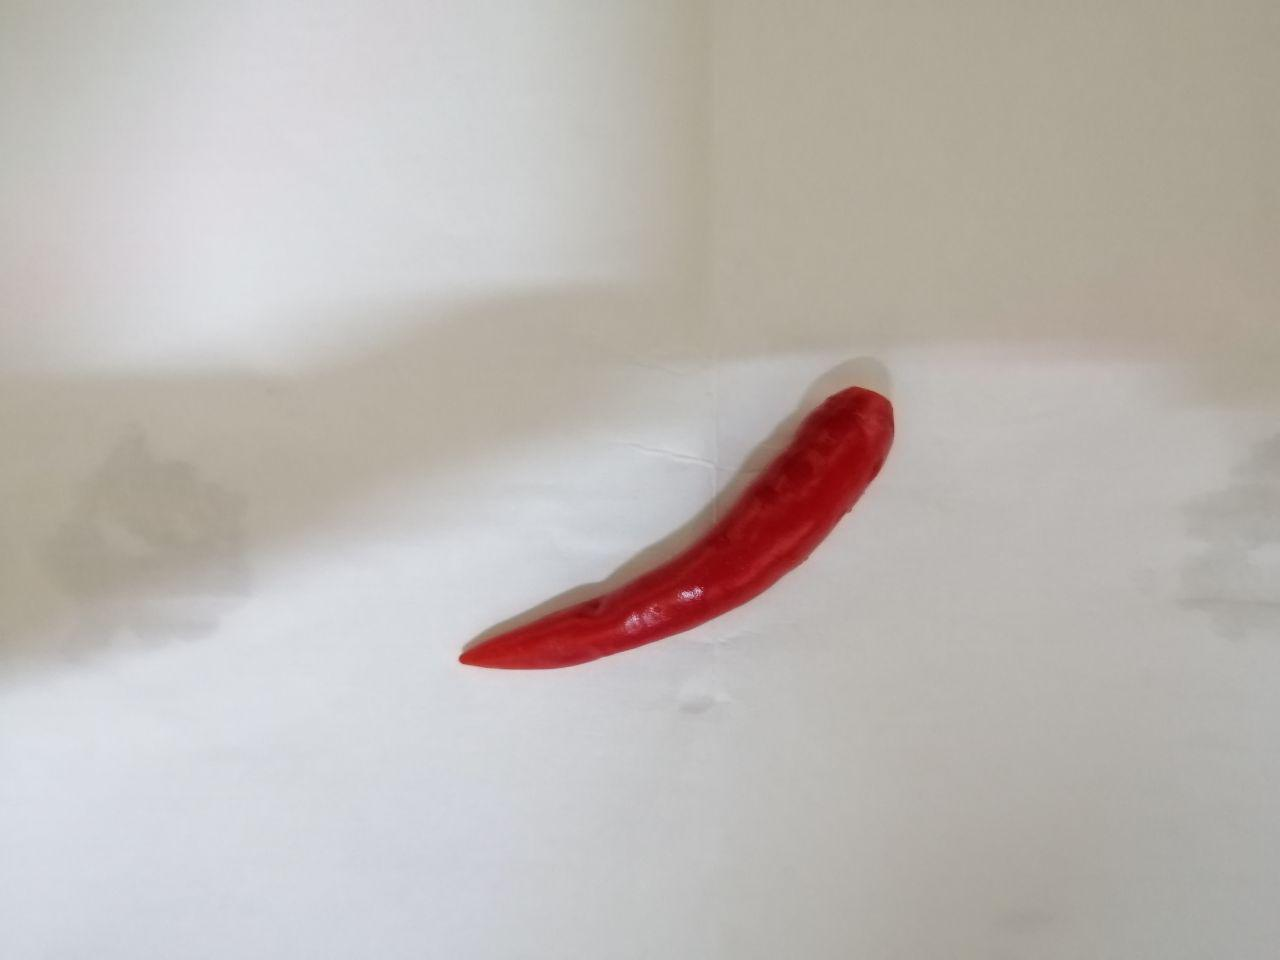lada merah: (388, 368, 940, 718)
